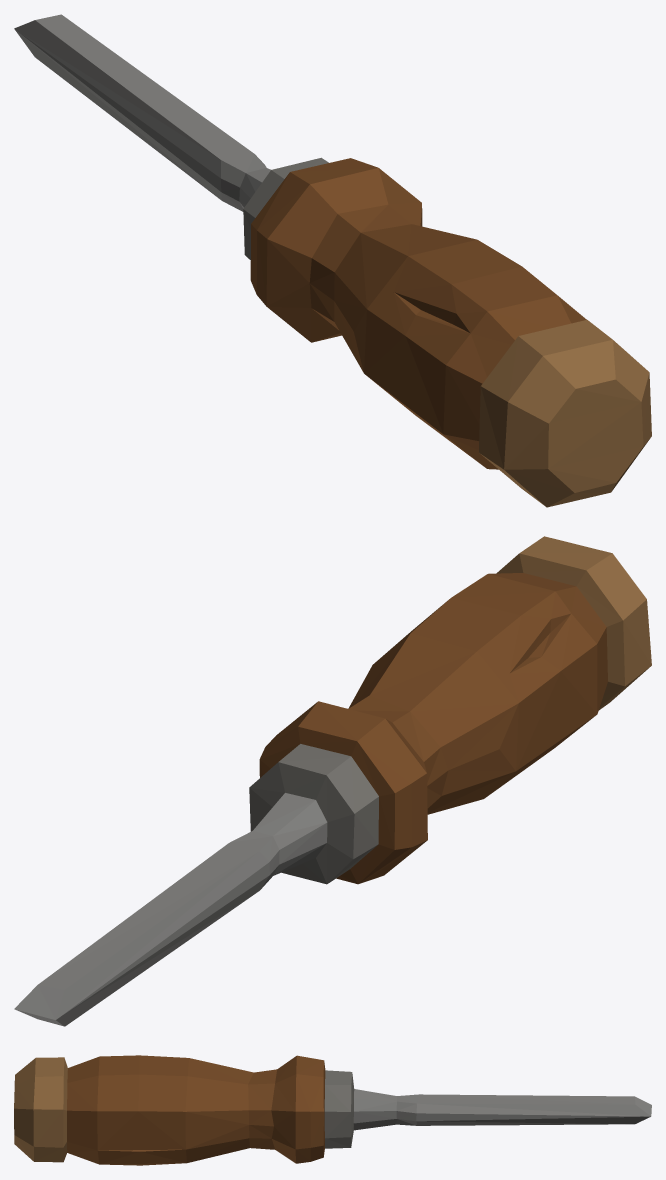
File: WoodworkingChisel_1.fbx
3 renders of one model, top to bottom at view 1: azimuth 30°, elevation 25°; view 2: azimuth 150°, elevation 25°; view 3: azimuth 270°, elevation 25°, orthographic. The views are drawn at different scales.
Parts seen in each view (by area): view 1: WoodworkingChisel_1; view 2: WoodworkingChisel_1; view 3: WoodworkingChisel_1.
Boxes of the visible parts, bbox=[...] form: WoodworkingChisel_1: bbox=[14, 14, 651, 507]; WoodworkingChisel_1: bbox=[14, 536, 651, 1026]; WoodworkingChisel_1: bbox=[14, 1055, 651, 1165].
Size of the model in its own units: 0.0418 by 0.2571 by 0.0407.
